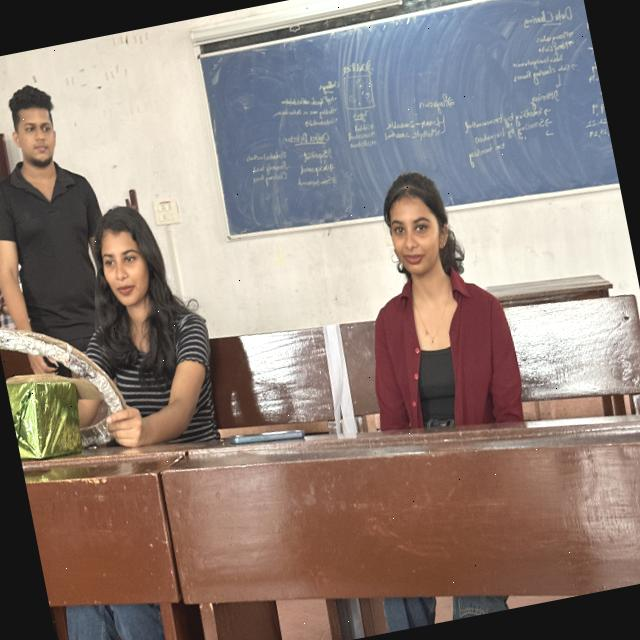no-seatbelt: (311, 205, 538, 484), (48, 262, 244, 479)
